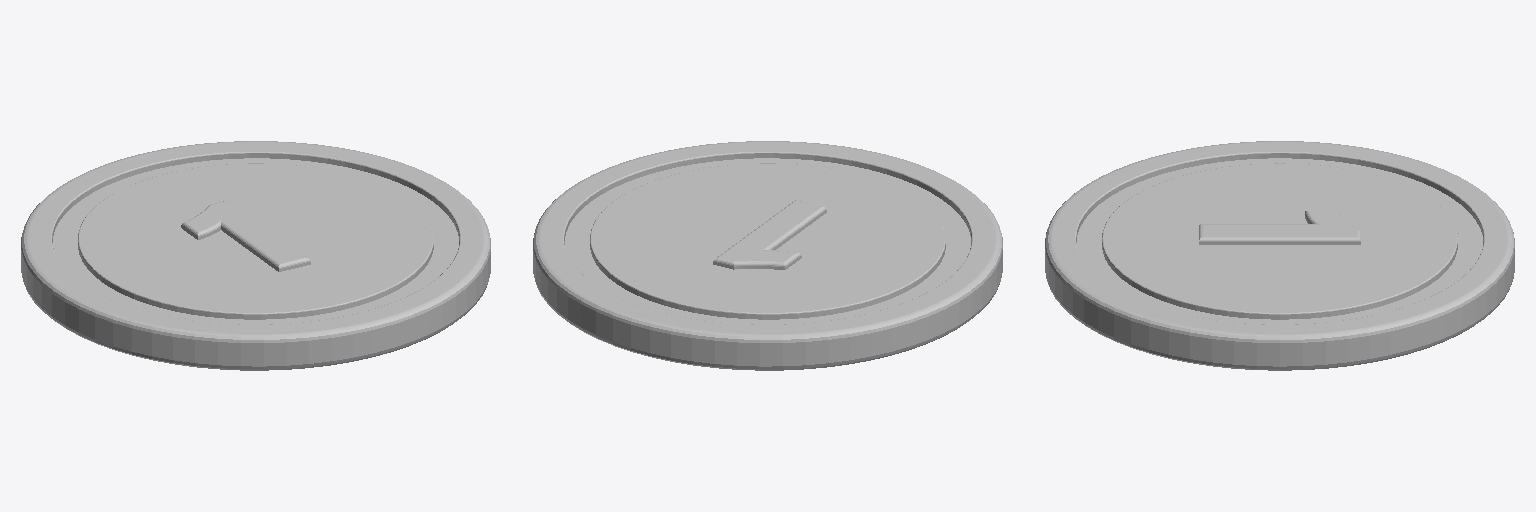
The model's file is poker_chip_1.obj.
The picture shows the model from 3 angles: view 1: azimuth 30°, elevation 25°; view 2: azimuth 150°, elevation 25°; view 3: azimuth 270°, elevation 25°; orthographic projection.
Parts seen in each view (by area): view 1: obj1; view 2: obj1; view 3: obj1.
Part boxes in pixels (x1,y1,x2,y2): obj1: (21, 141, 490, 370); obj1: (533, 141, 1002, 370); obj1: (1045, 141, 1514, 370).
Size of the model in its own units: 0.0802 by 0.0091 by 0.0802.